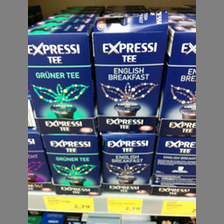coffee: (91, 14, 168, 116), (28, 23, 94, 120), (41, 133, 101, 186), (101, 131, 155, 184)
